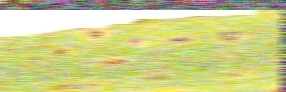Bacterial_Leaf_Blight: (210, 27, 255, 42), (44, 78, 105, 89), (95, 53, 130, 68), (80, 24, 108, 42), (140, 69, 176, 81), (166, 33, 199, 44), (125, 29, 144, 48), (50, 46, 73, 56), (160, 58, 175, 72), (22, 49, 38, 61), (224, 48, 242, 57), (147, 23, 159, 35), (269, 49, 279, 61), (243, 61, 256, 70), (228, 69, 240, 78), (273, 31, 280, 43), (271, 85, 280, 92), (264, 11, 272, 18)
